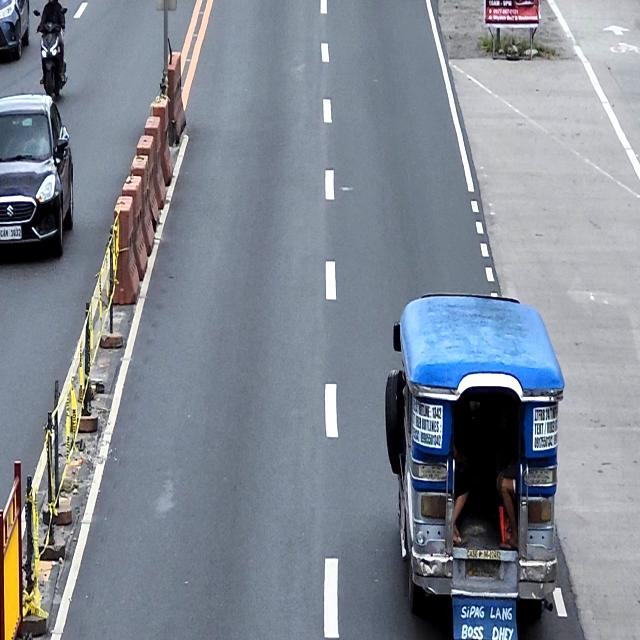Car: (0, 93, 74, 257), (0, 0, 32, 64)
Jeep: (384, 291, 565, 620)
License-Plate: (462, 557, 503, 580), (0, 225, 23, 241)
Motorcycle: (33, 7, 68, 101)
